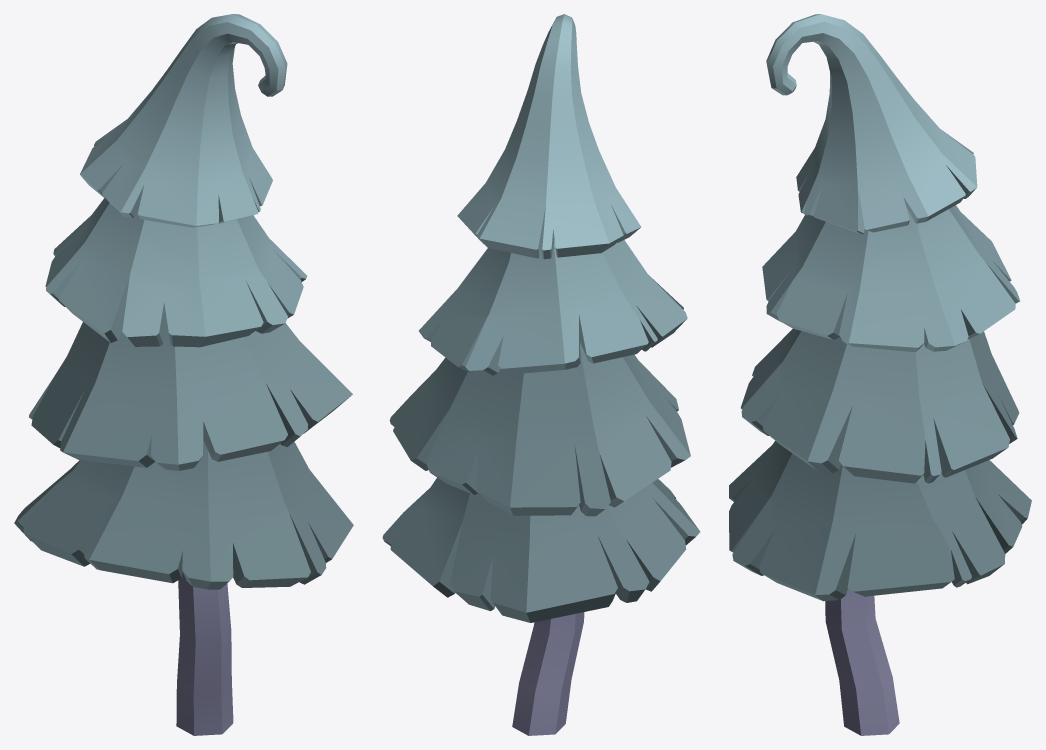
The model's file is Mystic_Tree_L_B.fbx.
3 views of the same model, side by side, from view 1: azimuth 30°, elevation 25°; view 2: azimuth 150°, elevation 25°; view 3: azimuth 270°, elevation 25° (orthographic). The views are drawn at different scales.
Parts seen in each view (by area): view 1: Mystic_Tree_L_B; view 2: Mystic_Tree_L_B; view 3: Mystic_Tree_L_B.
Part boxes in pixels (x1=…): Mystic_Tree_L_B: x1=14, y1=14, x2=353, y2=735; Mystic_Tree_L_B: x1=382, y1=14, x2=700, y2=735; Mystic_Tree_L_B: x1=729, y1=14, x2=1031, y2=735.
Size of the model in its own units: 517 by 1272 by 491.
